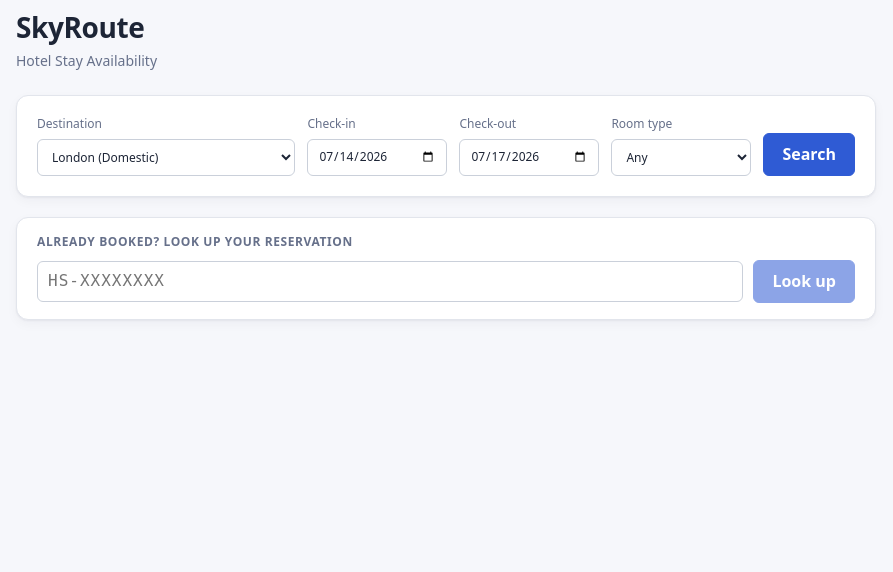
Test: App › shows search results with room details after a successful search
The width and height of the screenshot is (893, 572).
Click the button "Search" at (809, 154), box x1=763 y1=133 x2=855 y2=176
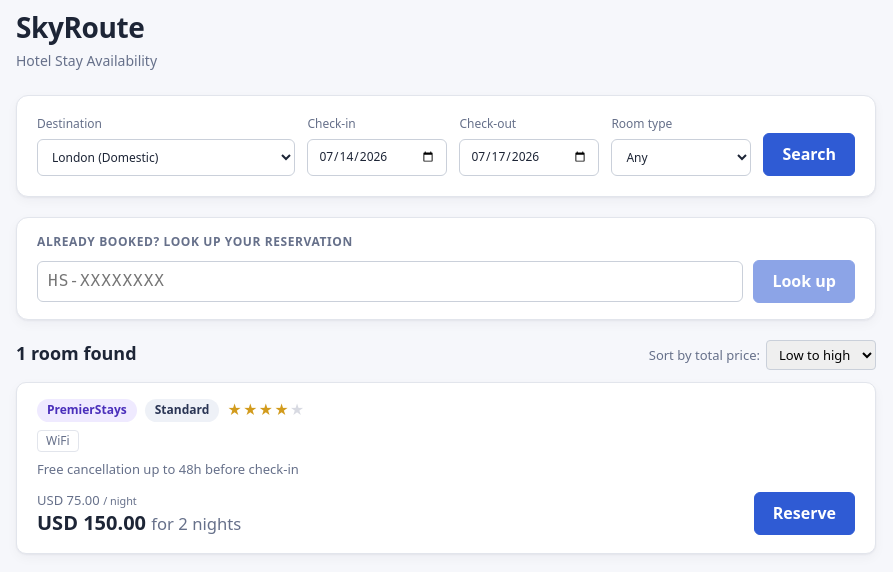
Check: the heading "1 room found" is shown, box x1=16 y1=341 x2=137 y2=366
Check: the text "PremierStays" is shown, box x1=37 y1=399 x2=137 y2=422
Check: the text "USD 75.00 / night" is shown, box x1=37 y1=490 x2=137 y2=508
